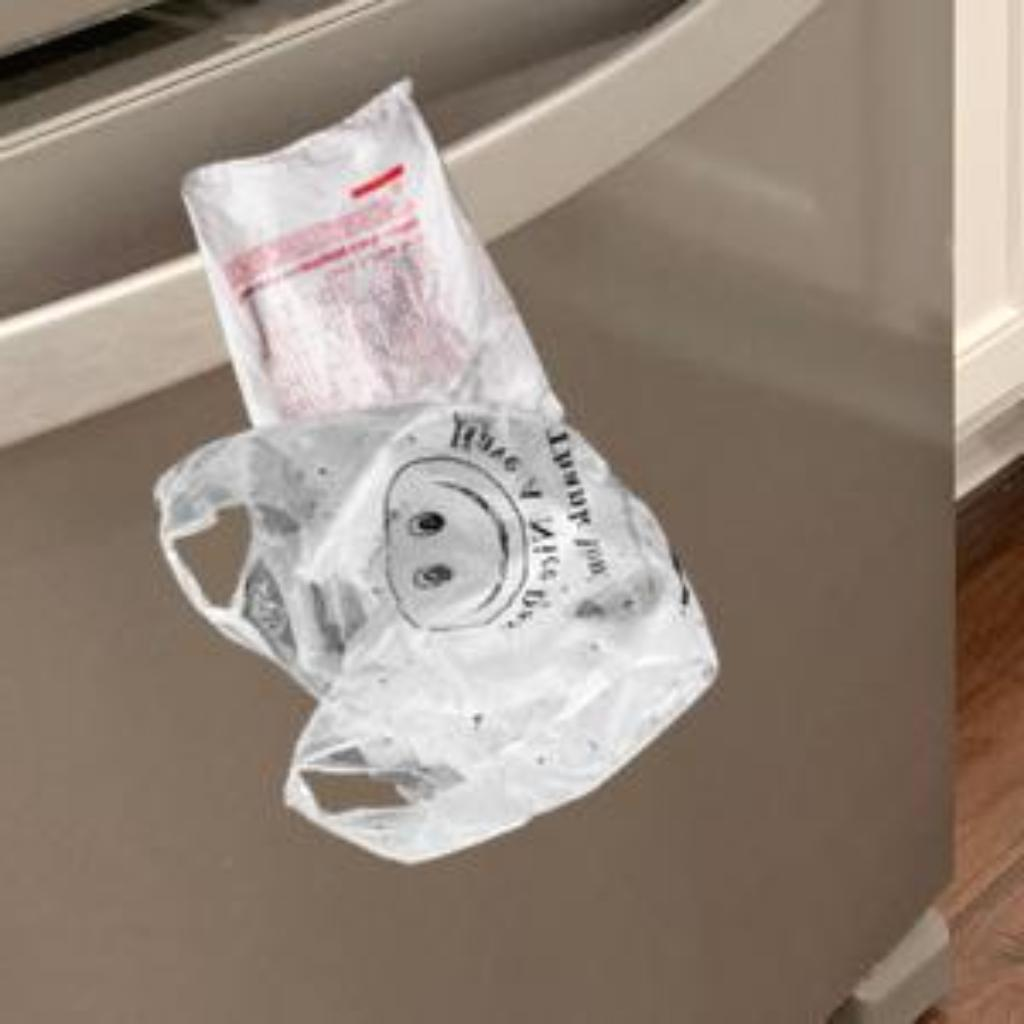garbage: (140, 65, 737, 877)
